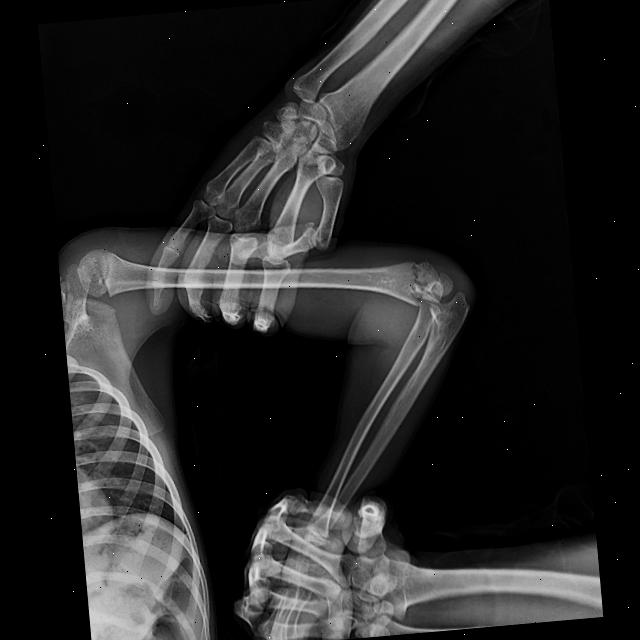Fracture: (397, 260, 454, 308)
